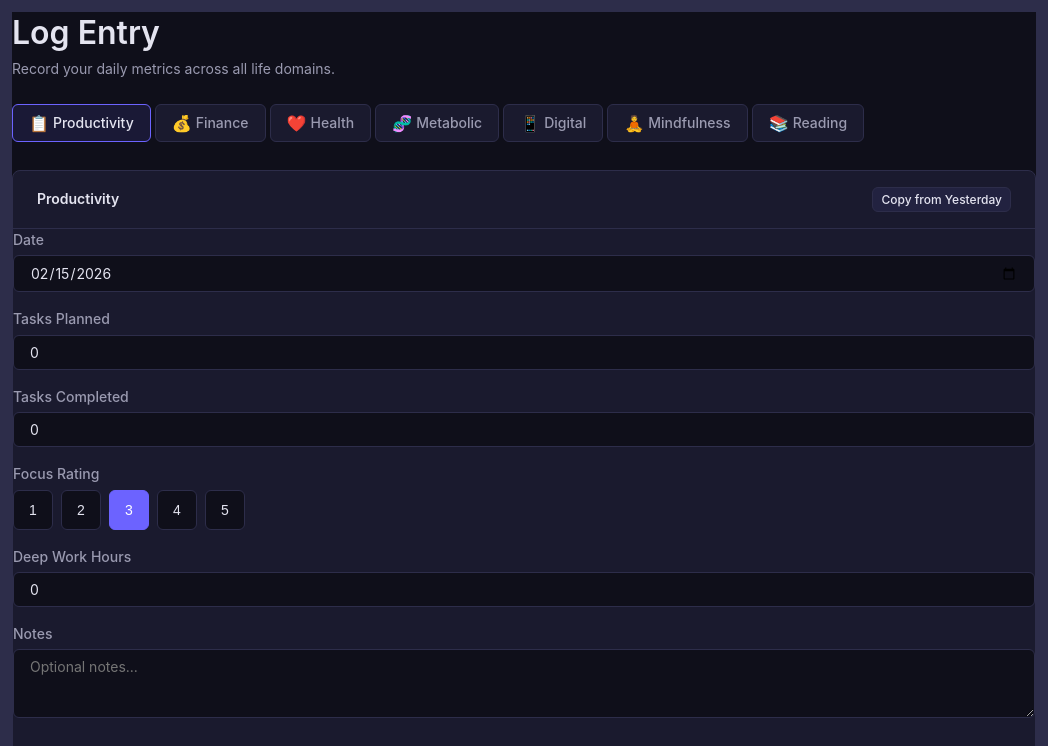
Test: Entry View › shows card with active domain title
The image size is (1048, 746).
Expected: the heading with class "card-title" reads "Productivity", [37,190,119,207]
Click the button with test id "tab-reading".
click(808, 123)  # box [752,104,864,142]
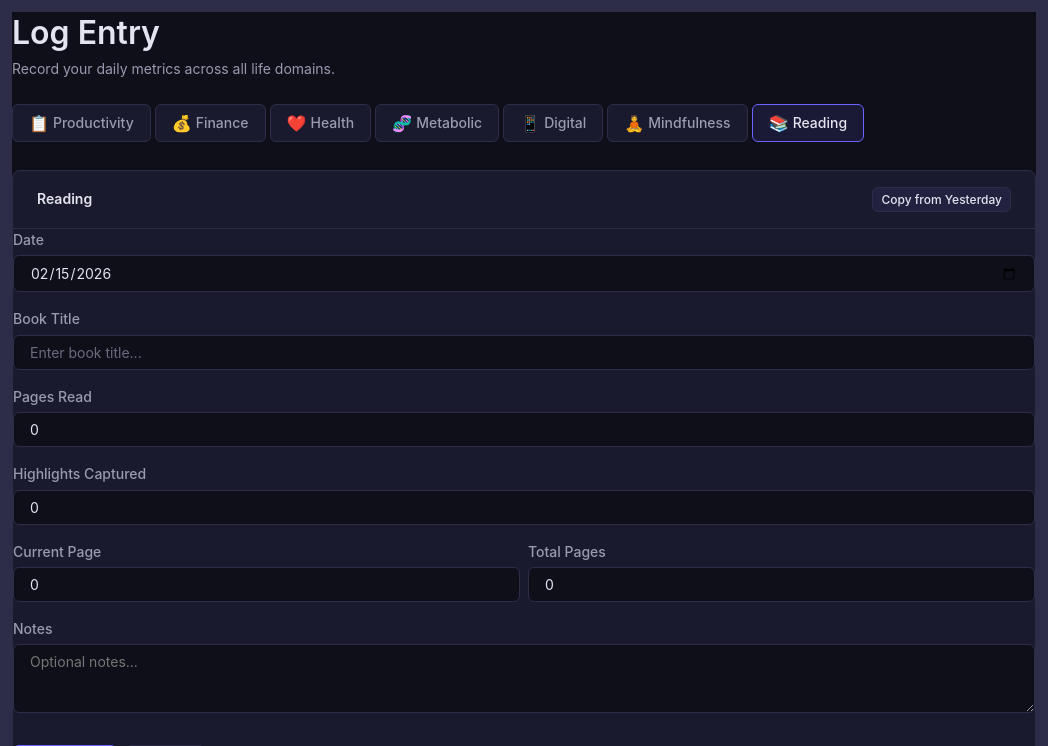
Now the heading with class "card-title" reads "Reading", box [37,190,92,207]
